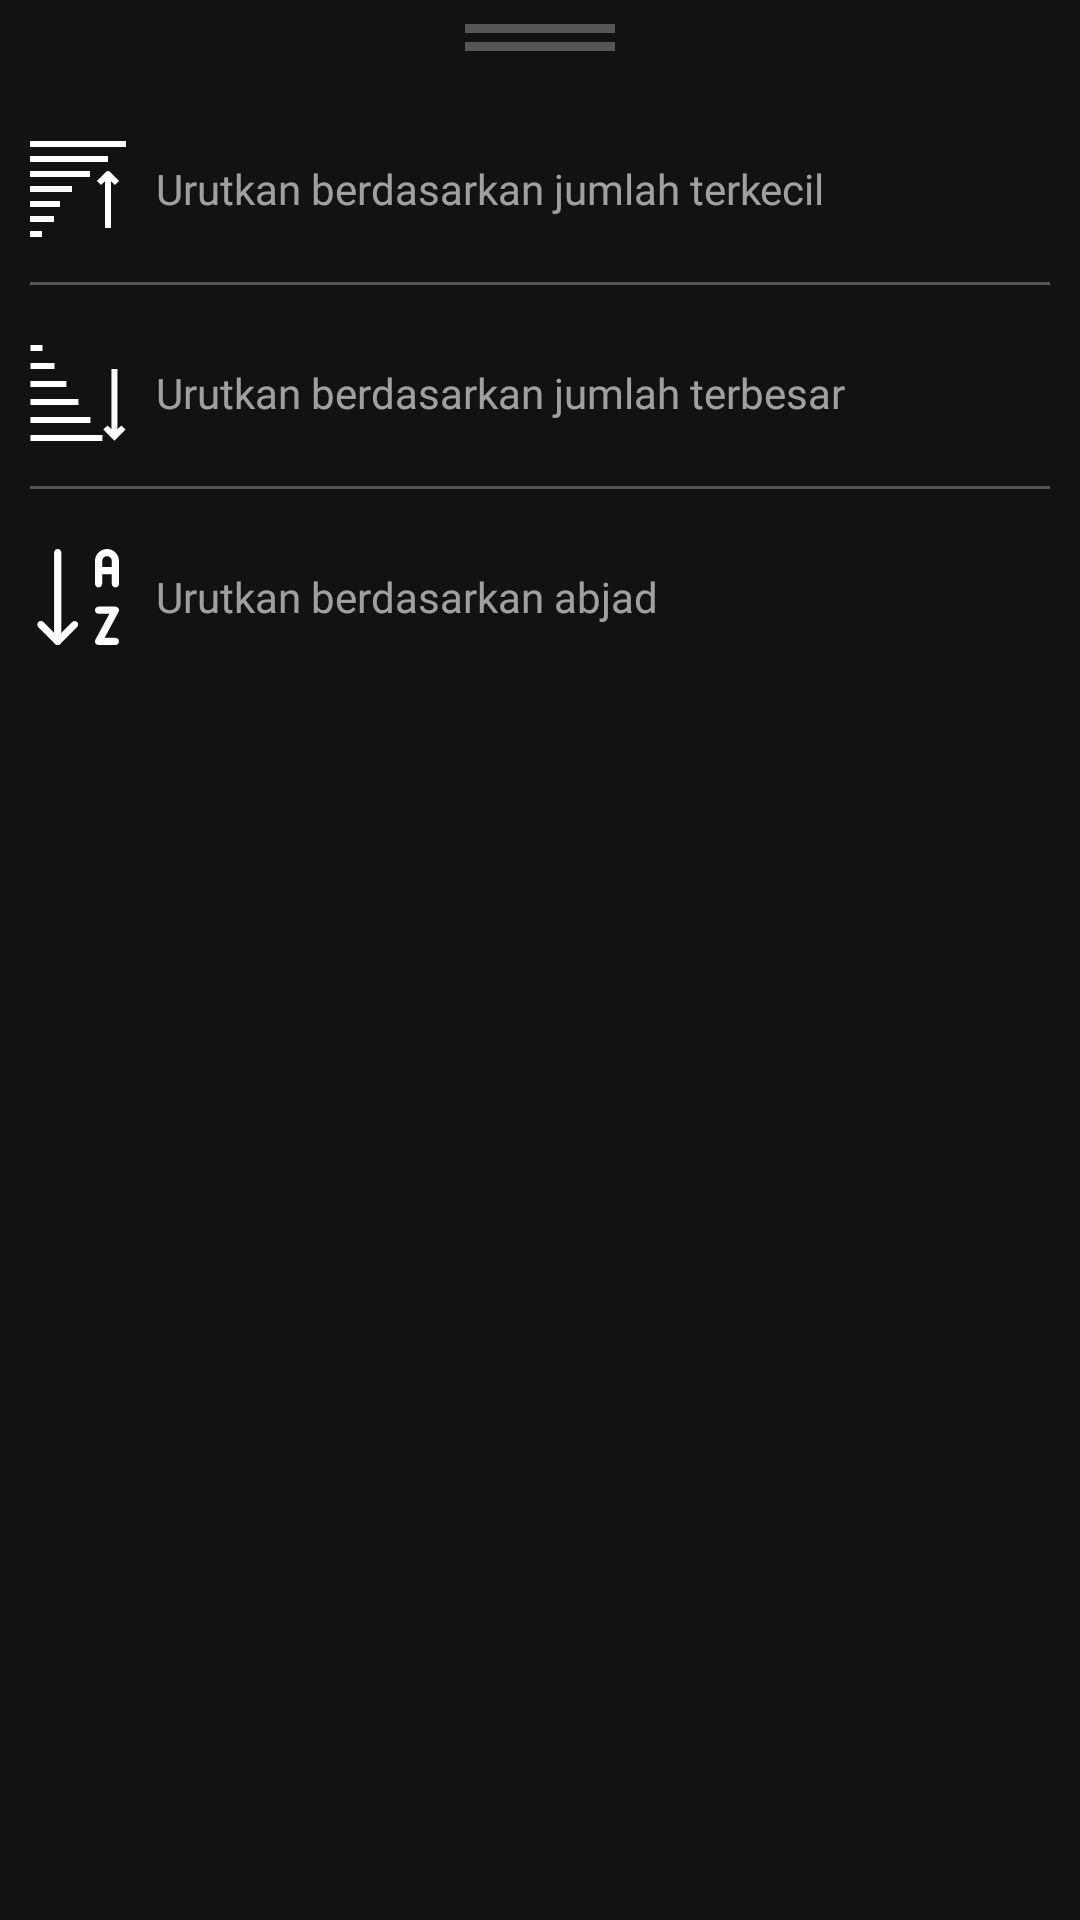

Named icons in this screenshot (1080 × 1920) and their centers, (x,y):
sort abjad: (78,597)
sort asc: (78,189)
sort desc: (78,393)
